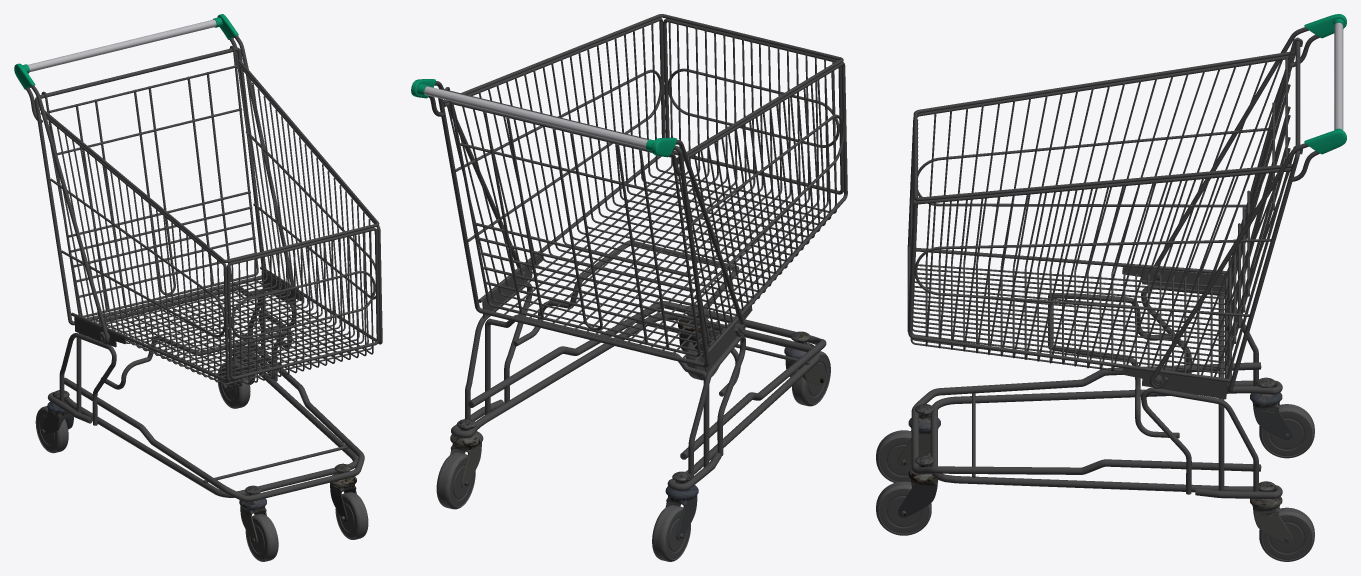
Rendered from cart.glb.
3 renders of one model, left to right at view 1: azimuth 30°, elevation 25°; view 2: azimuth 150°, elevation 25°; view 3: azimuth 270°, elevation 25°, orthographic. The views are drawn at different scales.
Visible parts, largest first — view 1: Object_2; view 2: Object_2; view 3: Object_2.
Part boxes in pixels (x1,y1,x2,y2): Object_2: [14, 14, 382, 561]; Object_2: [411, 14, 847, 561]; Object_2: [876, 14, 1346, 561].
Bounding box in the file's own units: 60.55 × 103 × 101.
Materials: 1 (1 with a texture image).
